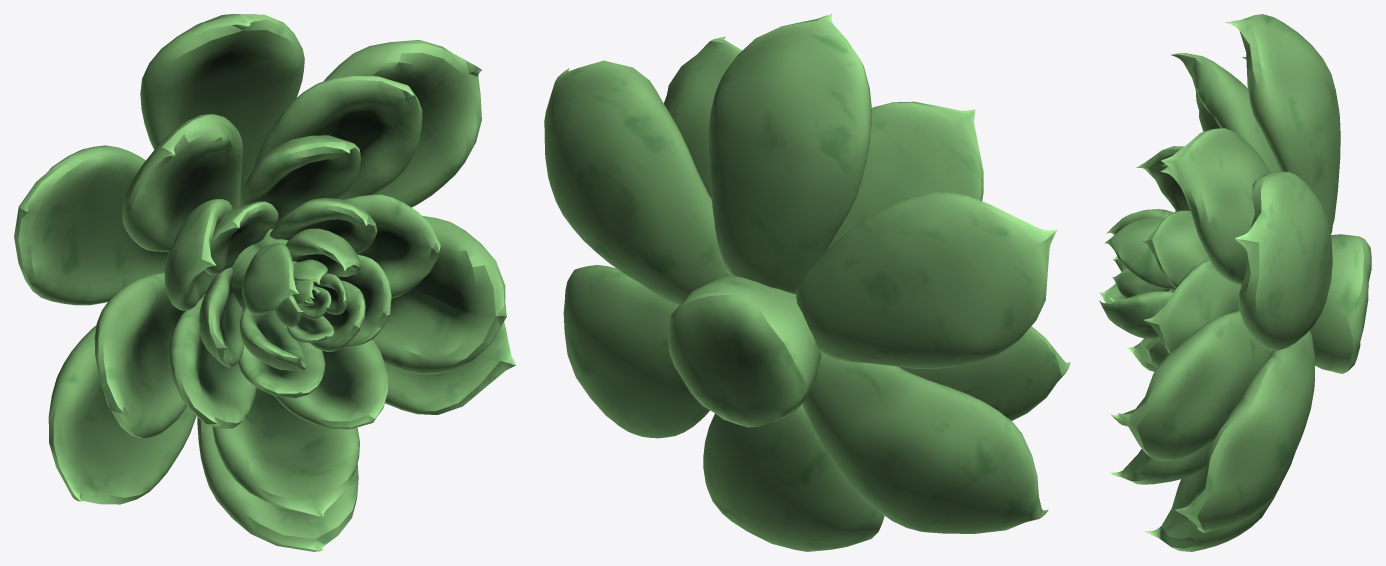
The picture shows the model from 3 angles, left to right: view 1: azimuth 30°, elevation 25°; view 2: azimuth 150°, elevation 25°; view 3: azimuth 270°, elevation 25°; orthographic projection. The views are drawn at different scales.
Visible parts, largest first — view 1: Circle.014; view 2: Circle.014; view 3: Circle.014.
Part boxes in pixels (x1,y1,x2,y2): Circle.014: [14, 14, 515, 551]; Circle.014: [544, 14, 1070, 551]; Circle.014: [1099, 14, 1371, 551].
Bounding box in the file's own units: 1.17 × 1.24 × 0.6065.
Materials: 1 (1 with a texture image).
